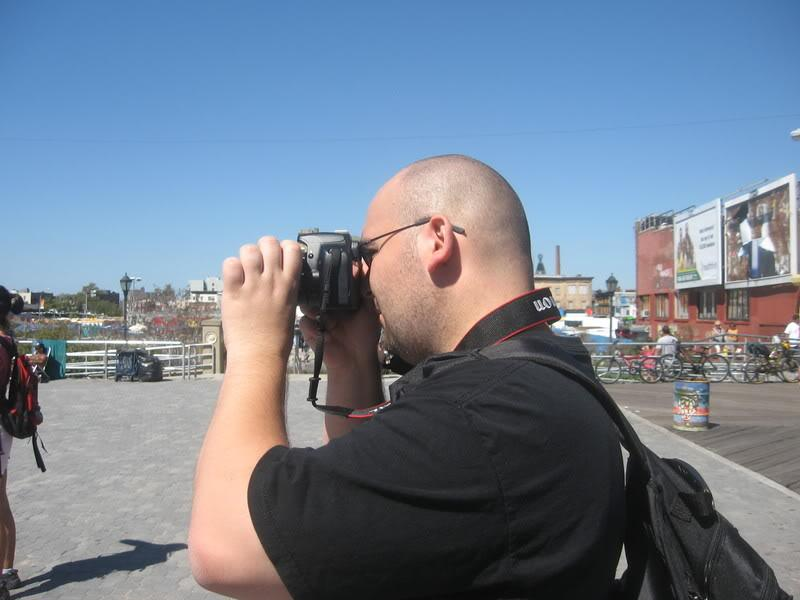person: (189, 154, 630, 598)
